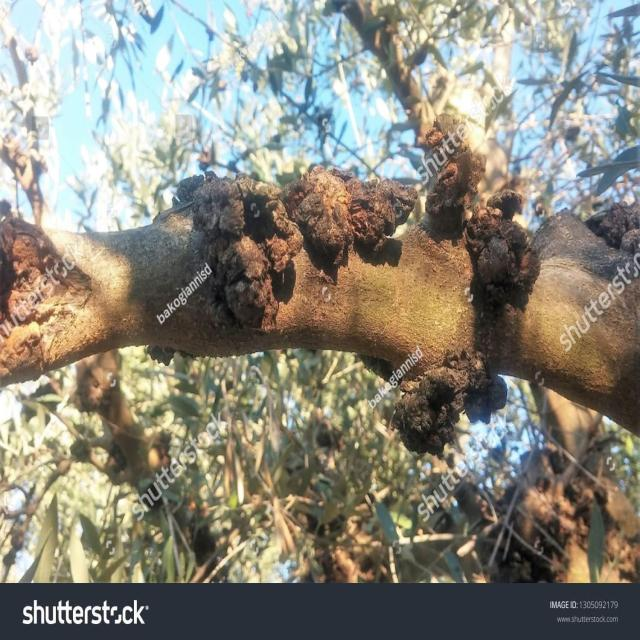Tuberculosis: (177, 173, 300, 331), (282, 165, 417, 267), (391, 352, 507, 458), (464, 189, 540, 310), (425, 114, 484, 238)
